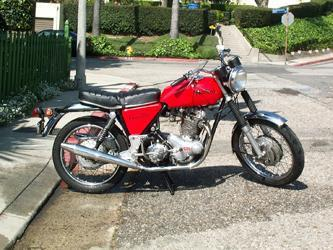motorcycle: (33, 40, 322, 202)
